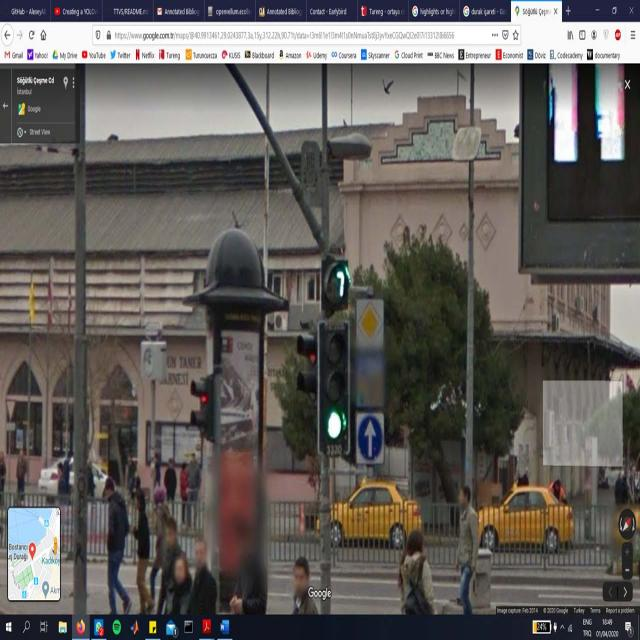yesil: (321, 323, 346, 457)
